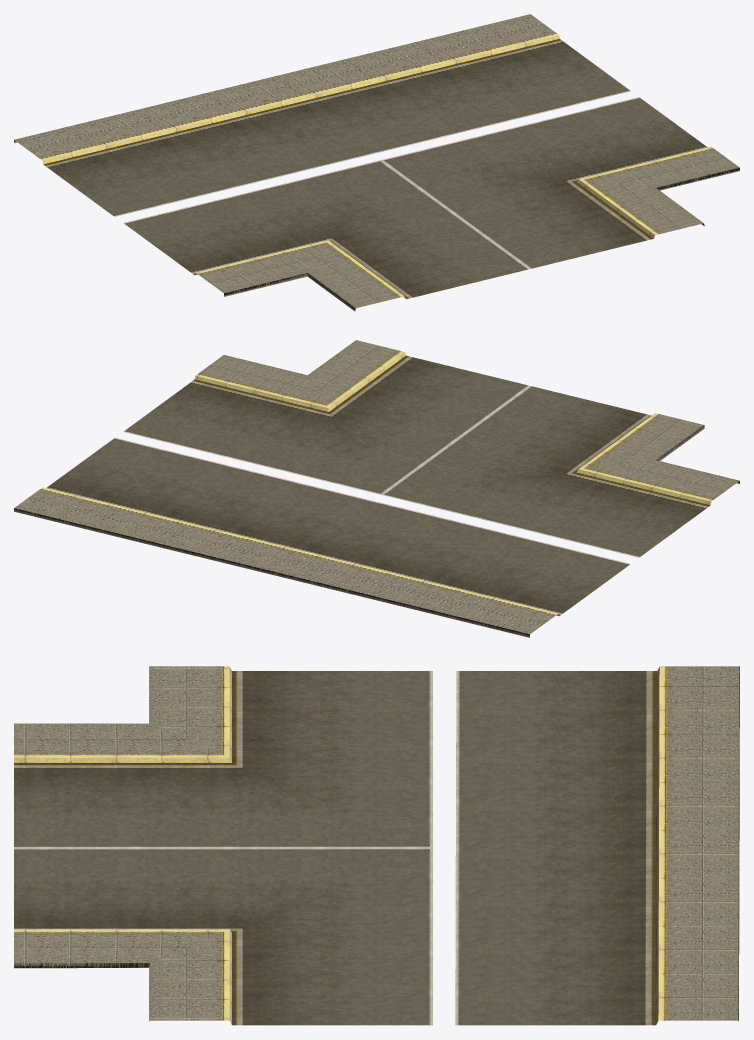
Rendered from Road3_T_F1.fbx.
3 renders of one model, top to bottom at view 1: azimuth 30°, elevation 25°; view 2: azimuth 150°, elevation 25°; view 3: azimuth 270°, elevation 25°, orthographic. The views are drawn at different scales.
Visible parts, largest first — view 1: Road_T_F, Road_Straight_F; view 2: Road_T_F, Road_Straight_F; view 3: Road_T_F, Road_Straight_F.
Part boxes in pixels (left/top/right/bottom): Road_T_F: left=123, top=97, right=739, bottom=311; Road_Straight_F: left=14, top=14, right=630, bottom=216; Road_T_F: left=123, top=340, right=739, bottom=557; Road_Straight_F: left=14, top=438, right=630, bottom=637; Road_T_F: left=14, top=666, right=432, bottom=1025; Road_Straight_F: left=455, top=666, right=739, bottom=1025.
Bounding box in the file's own units: 1313 × 8.4 × 1136.
